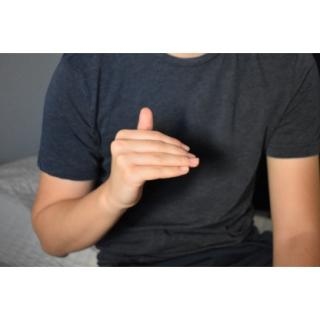KHAA: (100, 103, 204, 219)
